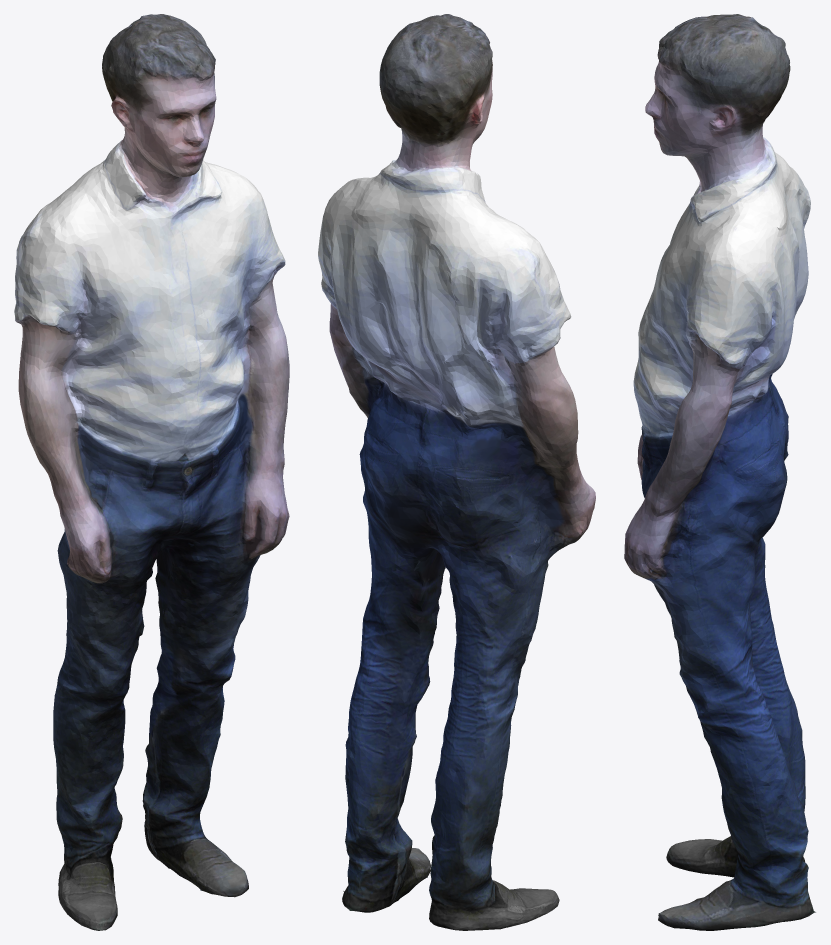
The model's file is Colin.obj.
The picture shows the model from 3 angles, left to right: view 1: azimuth 30°, elevation 25°; view 2: azimuth 150°, elevation 25°; view 3: azimuth 270°, elevation 25°; orthographic projection. The views are drawn at different scales.
Visible parts, largest first — view 1: obj0; view 2: obj0; view 3: obj0.
Part boxes in pixels (bbox=[...]): obj0: bbox=[14, 14, 289, 930]; obj0: bbox=[318, 14, 595, 930]; obj0: bbox=[624, 14, 815, 930].
Bounding box in the file's own units: 6.08 × 19.77 × 3.9.
